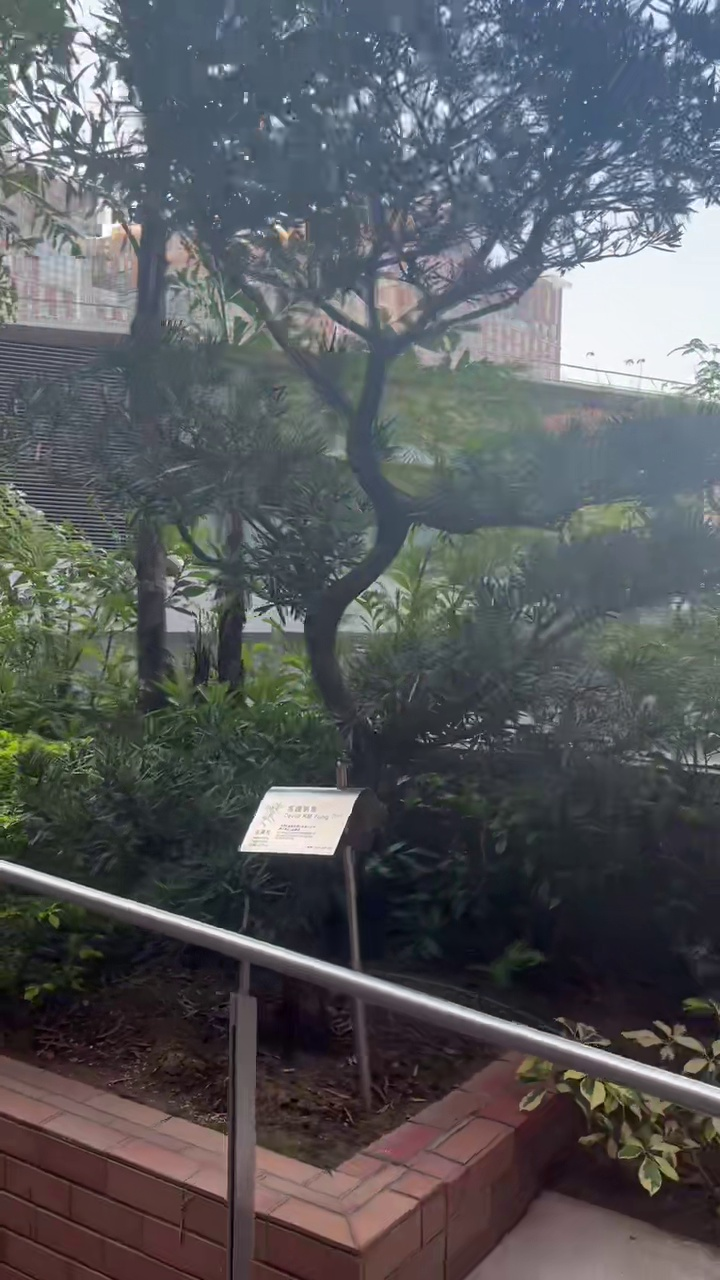Podocarpus macrophyllus: (106, 0, 719, 784)
